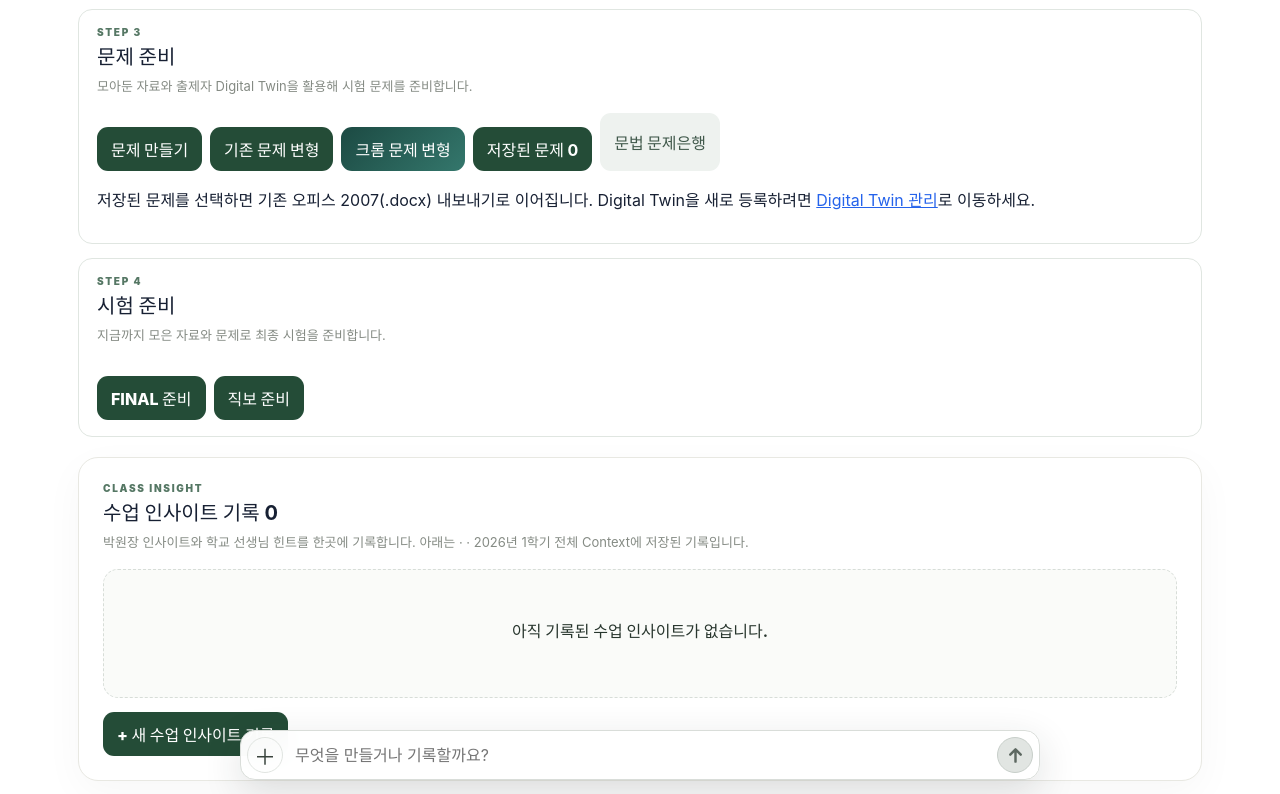
it: 내신 Wiki V1.1 시나리오 홈 › STEP 4의 FINAL 준비는 출제자 Digital Twin을 포함한 5 CORE 선택형 워크스페이스를 연다
(page scrolled)
Click the button "FINAL 준비". click: (151, 398)
box: [97, 376, 206, 420]
(page scrolled)
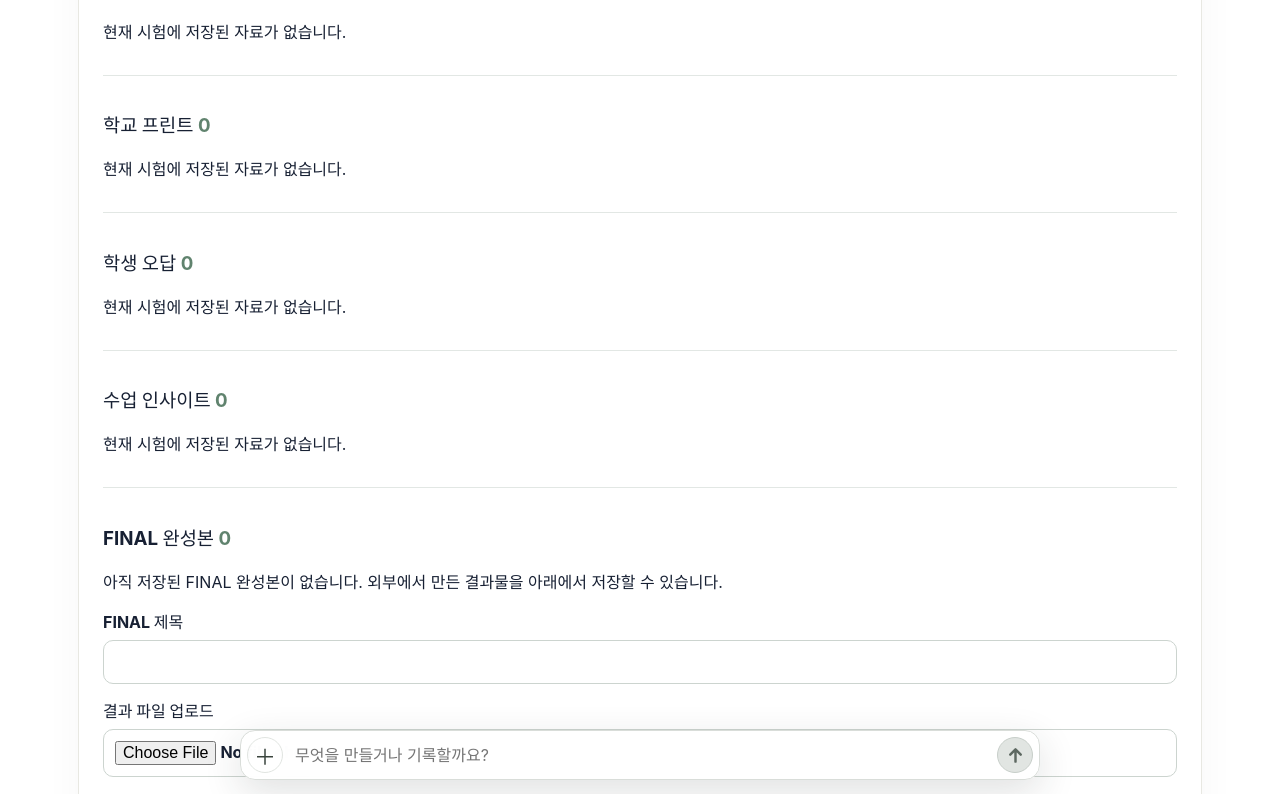
Result: the heading "학교 프린트 0" is shown at [103, 114, 210, 138]
Result: the heading "학생 오답 0" is shown at [103, 252, 193, 275]
Result: the heading "수업 인사이트 0" is shown at [103, 389, 228, 412]
